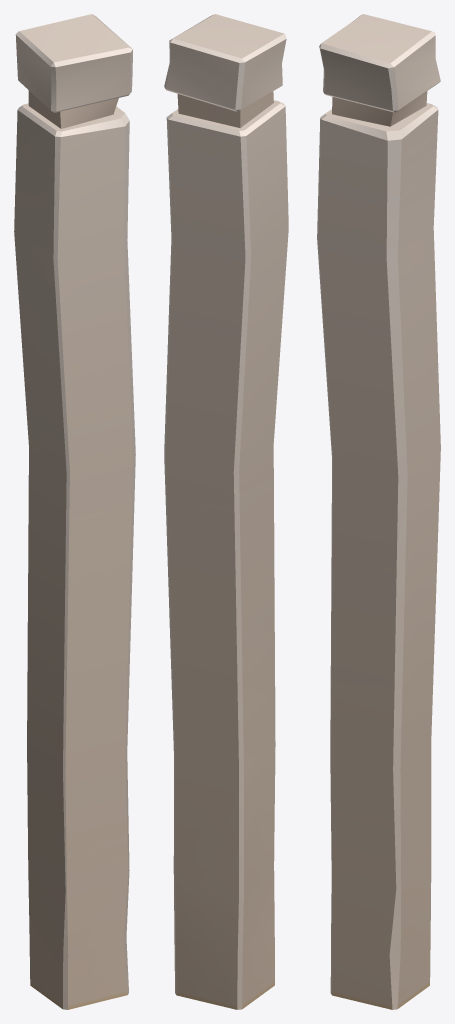
Rendered from StubVeliki.fbx.
3 views of the same model, side by side, from view 1: azimuth 30°, elevation 25°; view 2: azimuth 150°, elevation 25°; view 3: azimuth 330°, elevation 25° (orthographic).
Visible parts, largest first — view 1: StubVeliki; view 2: StubVeliki; view 3: StubVeliki.
Boxes of the visible parts, x1,y1,x2,y2 form: StubVeliki: [14, 14, 135, 1009]; StubVeliki: [164, 14, 288, 1009]; StubVeliki: [317, 14, 440, 1009].
Bounding box in the file's own units: 53.37 × 555 × 49.12.
